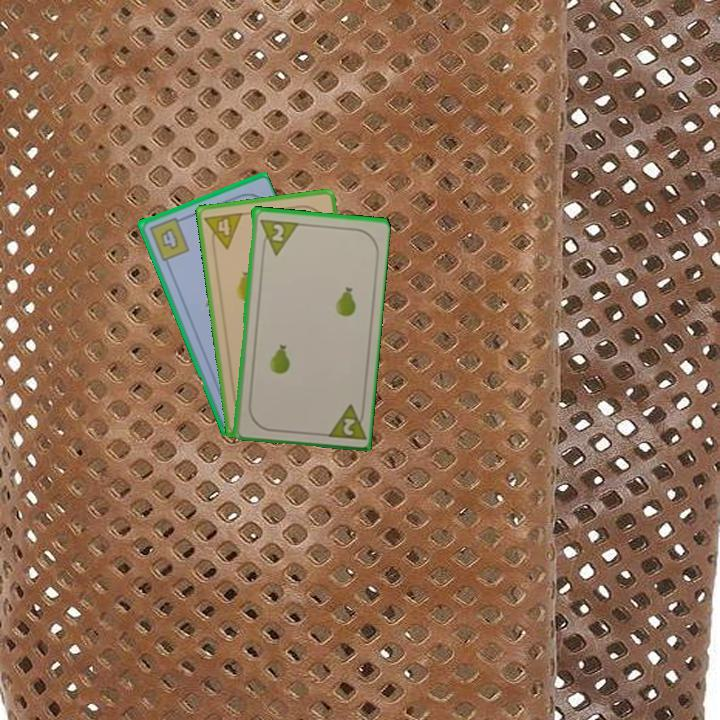2p: (322, 400, 367, 443), (267, 220, 286, 244)
4b: (145, 214, 192, 263)
4p: (201, 209, 245, 253)
